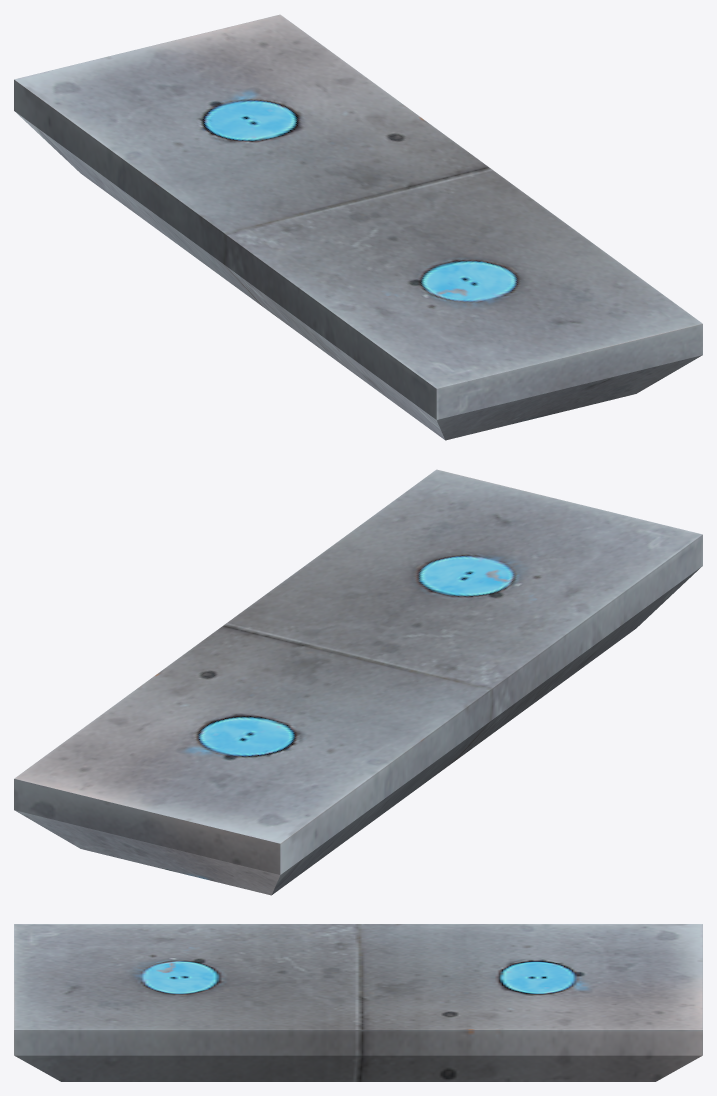
File: elevator.fbx
The picture shows the model from 3 angles, top to bottom: view 1: azimuth 30°, elevation 25°; view 2: azimuth 150°, elevation 25°; view 3: azimuth 270°, elevation 25°; orthographic projection. The views are drawn at different scales.
Parts seen in each view (by area): view 1: pCube32; view 2: pCube32; view 3: pCube32.
Boxes of the visible parts, x1,y1,x2,y2 form: pCube32: [14, 14, 702, 440]; pCube32: [14, 469, 702, 895]; pCube32: [14, 924, 702, 1081].
Bounding box in the file's own units: 0.8248 × 0.2429 × 2.27.
